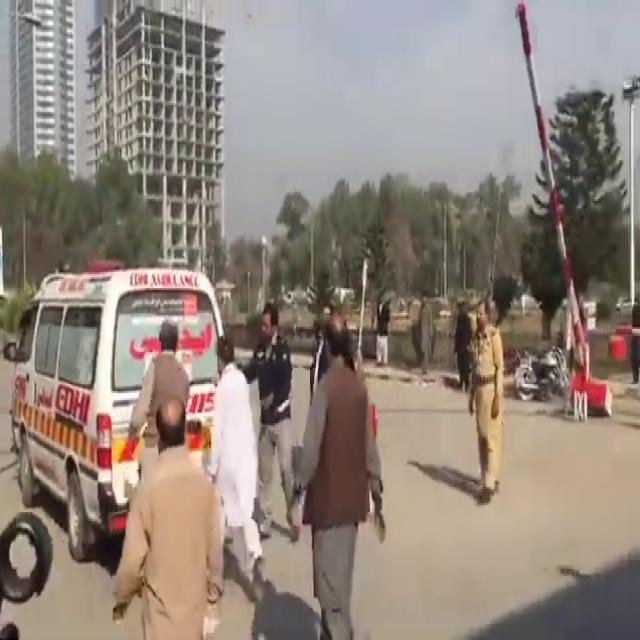ambulance: (13, 263, 243, 542)
